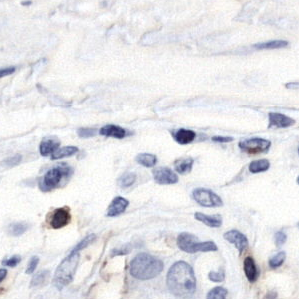Lymphocyte: (42, 203, 74, 230)
